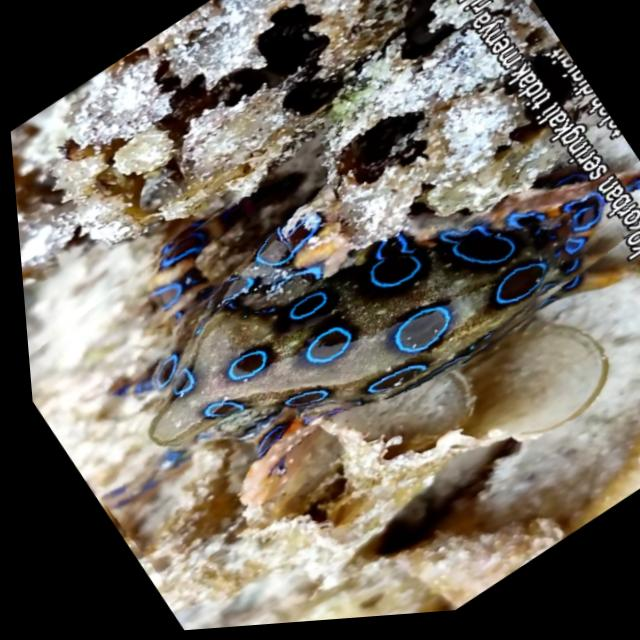blue_ringed_octopus: (2, 0, 640, 592)
